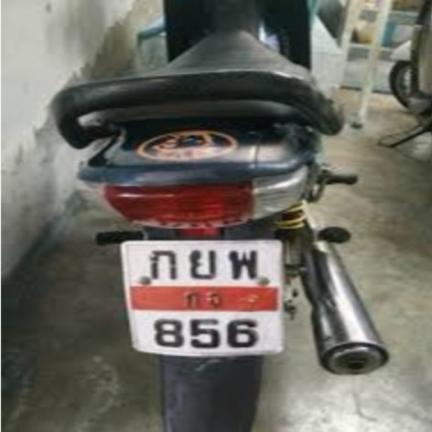5: (190, 315, 222, 349)
6: (226, 317, 261, 349)
8: (150, 315, 185, 347)
A01: (146, 250, 177, 279)
A30: (226, 248, 261, 279)
A34: (185, 247, 222, 281)
KRI: (179, 289, 231, 308)
